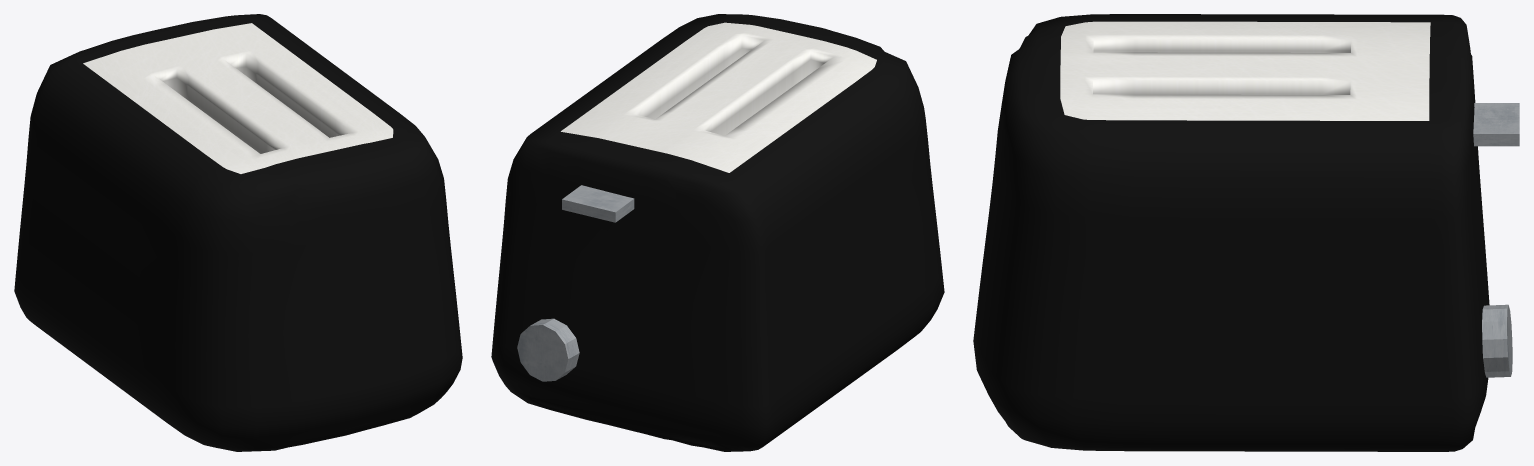
File: Toaster.glb
The picture shows the model from 3 angles, left to right: view 1: azimuth 30°, elevation 25°; view 2: azimuth 150°, elevation 25°; view 3: azimuth 270°, elevation 25°; orthographic projection. The views are drawn at different scales.
Visible parts, largest first — view 1: Toaster; view 2: Toaster, ToasterKnob, ToasterHandle; view 3: Toaster, ToasterKnob, ToasterHandle.
Boxes of the visible parts, x1,y1,x2,y2 form: Toaster: [14, 14, 462, 451]; Toaster: [491, 14, 944, 451]; ToasterKnob: [517, 318, 579, 381]; ToasterHandle: [562, 185, 634, 222]; Toaster: [973, 14, 1489, 451]; ToasterKnob: [1482, 304, 1512, 377]; ToasterHandle: [1473, 103, 1519, 146].
Bounding box in the file's own units: 0.4347 × 0.3995 × 0.6187.
Materials: 3 (2 with a texture image).
